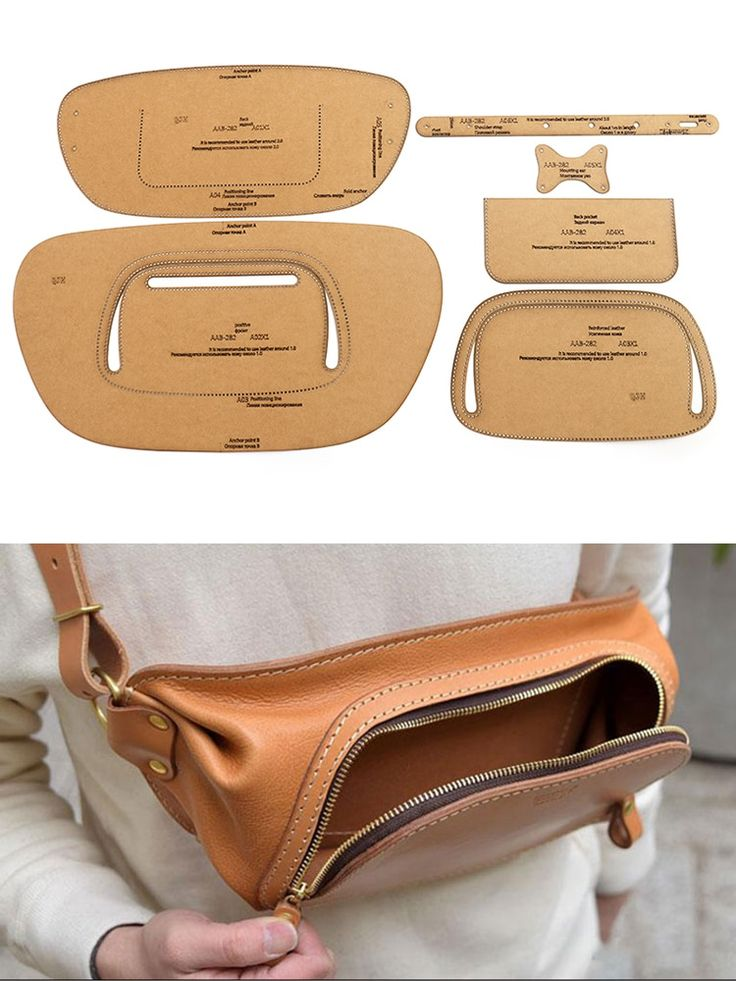cuero: (27, 545, 691, 926)
